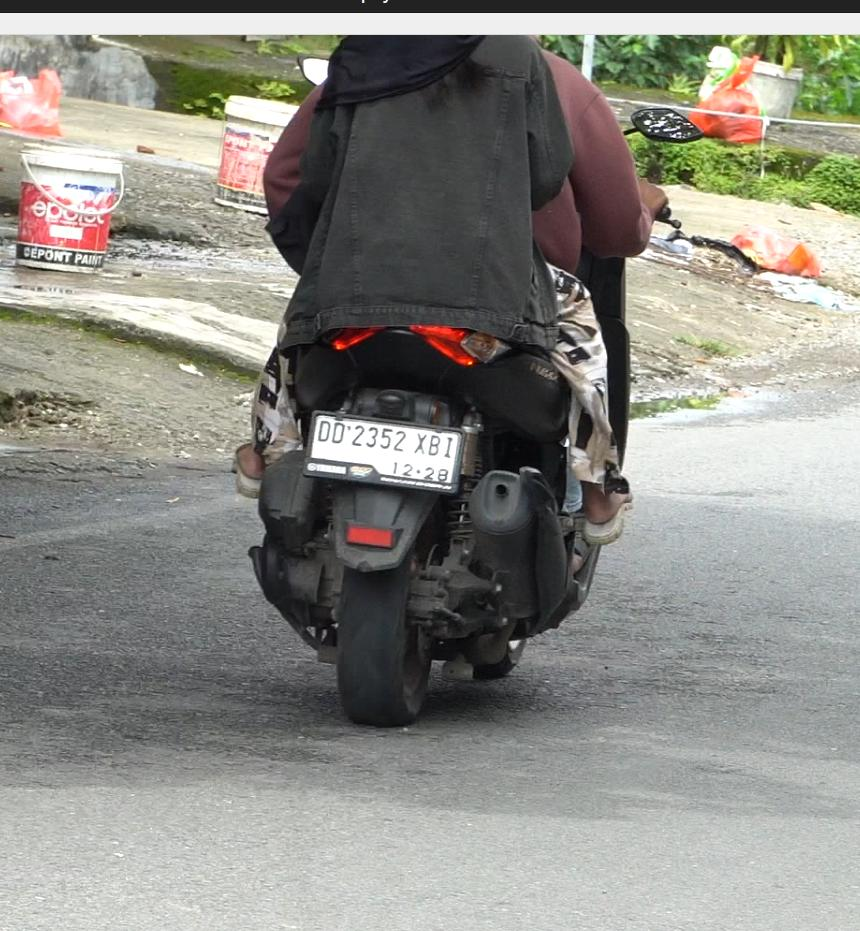number-plate: (308, 411, 470, 492)
